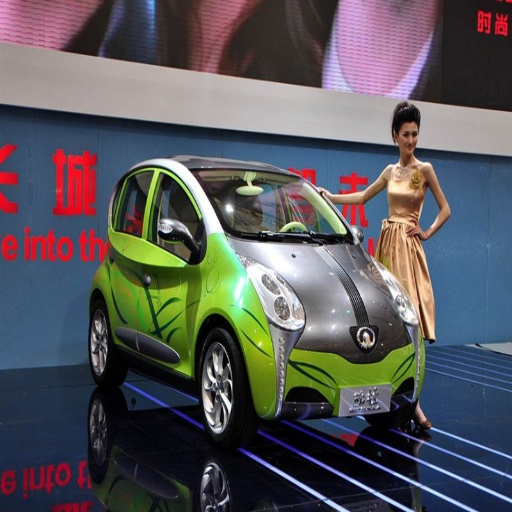front_bumper: (244, 329, 418, 415)
front_right_door: (139, 167, 206, 366)
front_right_light: (262, 271, 302, 326)
trunk: (312, 299, 393, 357)
